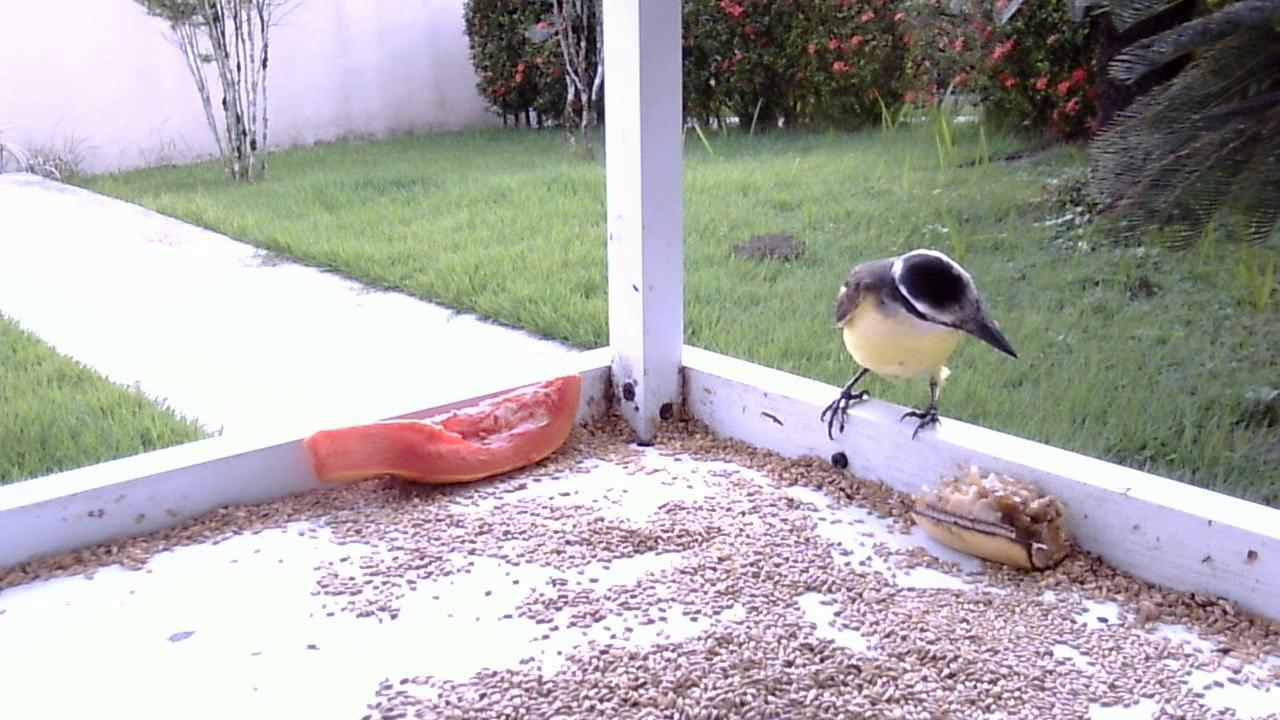bem_te_vi: (815, 242, 1014, 451)
